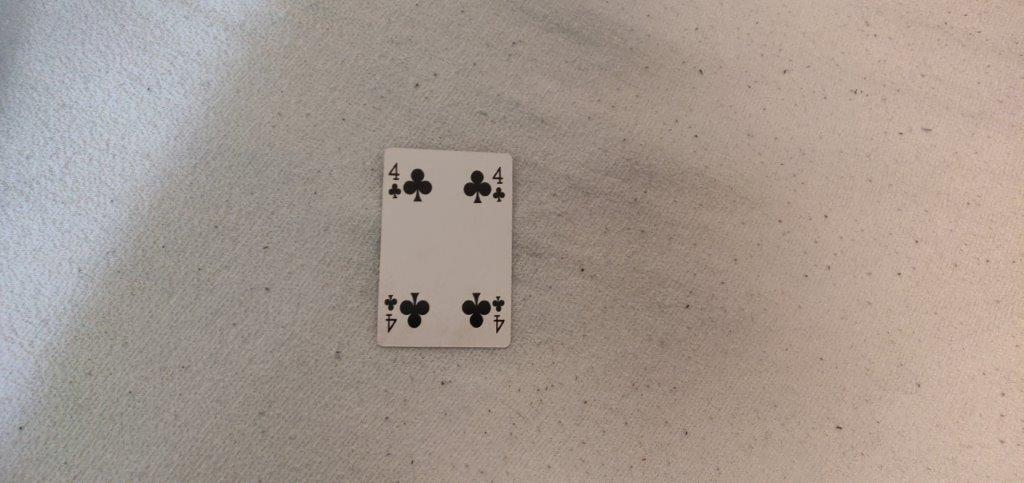4C: (385, 158, 404, 201), (489, 163, 506, 204)
